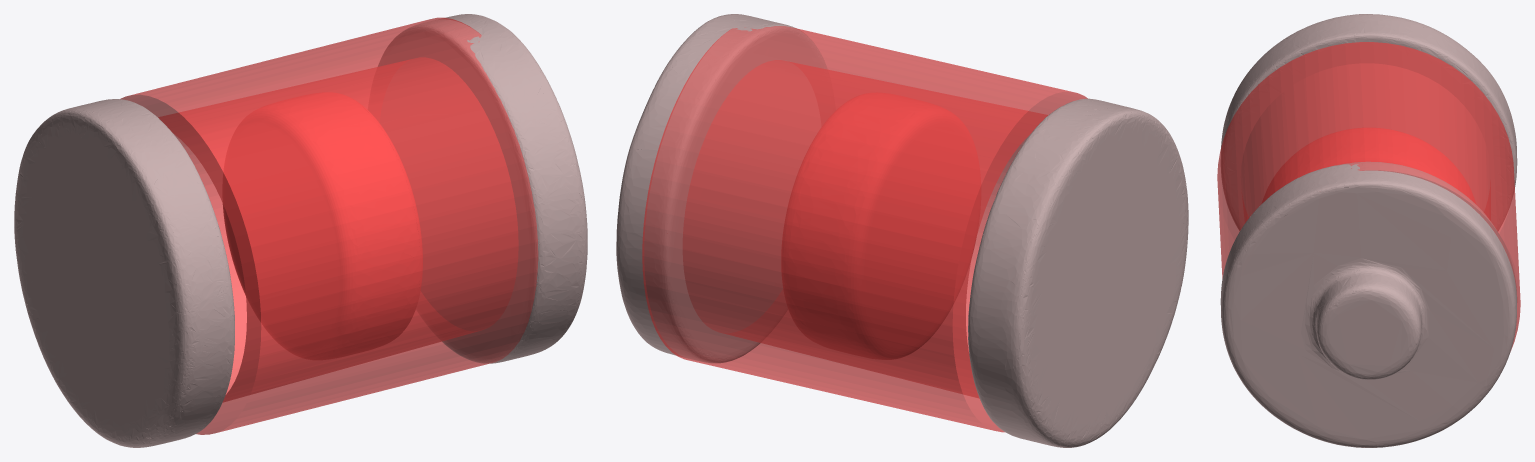
The model's file is battery_low.glb.
3 renders of one model, left to right at view 1: azimuth 30°, elevation 25°; view 2: azimuth 150°, elevation 25°; view 3: azimuth 270°, elevation 25°, orthographic. The views are drawn at different scales.
Parts seen in each view (by area): view 1: Sommets 1, Corps 1, Tiers haut 1; view 2: Corps 1, Sommets 1, Tiers haut 1; view 3: Sommets 1, Corps 1, Tiers haut 1.
Part boxes in pixels (x1,y1,x2,y2): Sommets 1: [14, 14, 587, 447]; Corps 1: [120, 17, 538, 434]; Tiers haut 1: [222, 92, 422, 359]; Corps 1: [642, 26, 1087, 432]; Sommets 1: [616, 14, 1188, 447]; Tiers haut 1: [781, 92, 980, 359]; Sommets 1: [1220, 14, 1517, 447]; Corps 1: [1217, 42, 1520, 351]; Tiers haut 1: [1262, 128, 1475, 203].
Bounding box in the file's own units: 72655 × 48464 × 49414.
